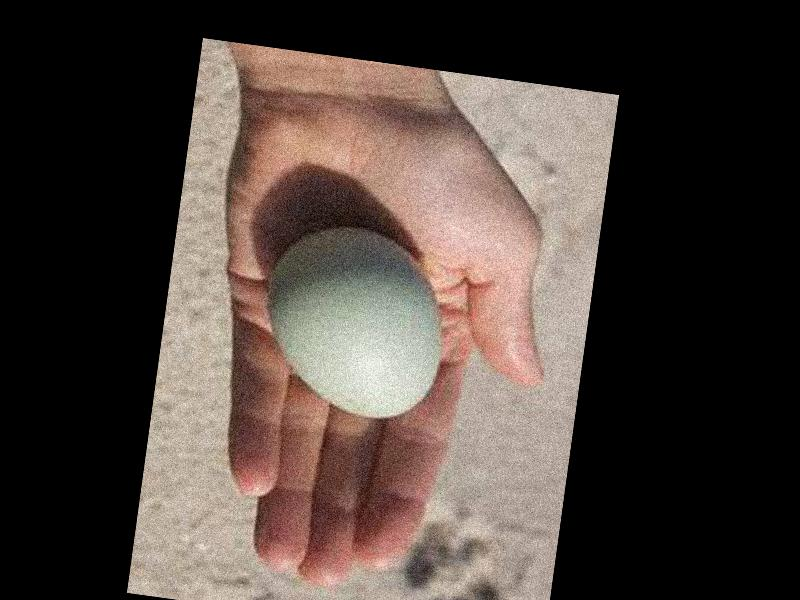Eggs: (253, 220, 451, 421)
